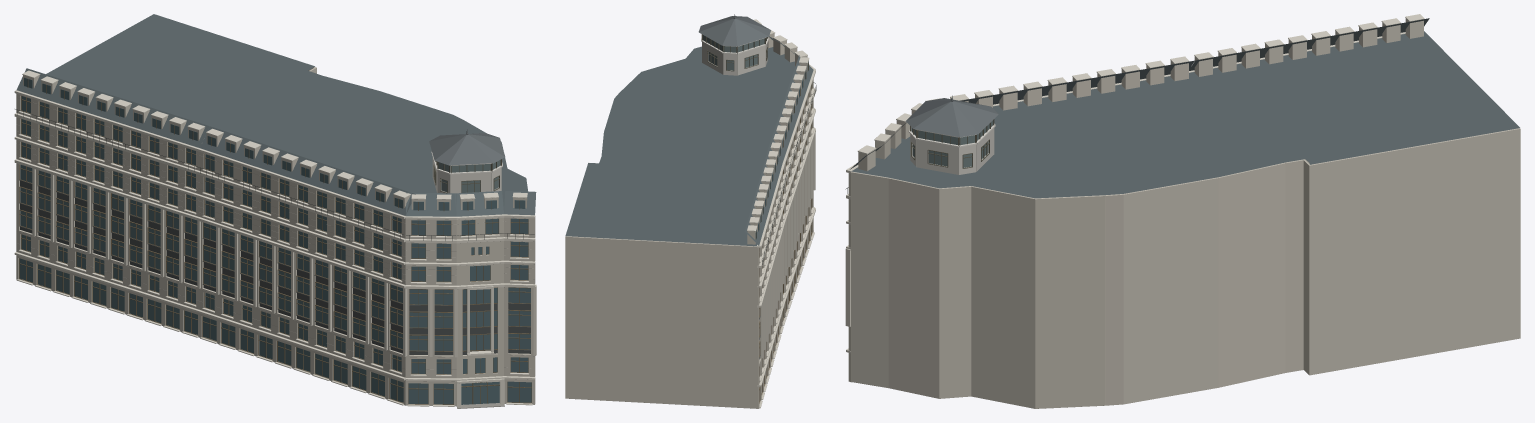
The model's file is 61a-exterior-f58add946270.glb.
The picture shows the model from 3 angles, left to right: view 1: azimuth 30°, elevation 25°; view 2: azimuth 150°, elevation 25°; view 3: azimuth 270°, elevation 25°; orthographic projection. The views are drawn at different scales.
Visible parts, largest first — view 1: 61A.001; view 2: 61A.001; view 3: 61A.001.
Part boxes in pixels (x1=…): 61A.001: x1=14, y1=14, x2=536, y2=408; 61A.001: x1=565, y1=14, x2=816, y2=408; 61A.001: x1=845, y1=14, x2=1520, y2=408.
Size of the model in its own units: 51.25 by 38.48 by 85.72.
